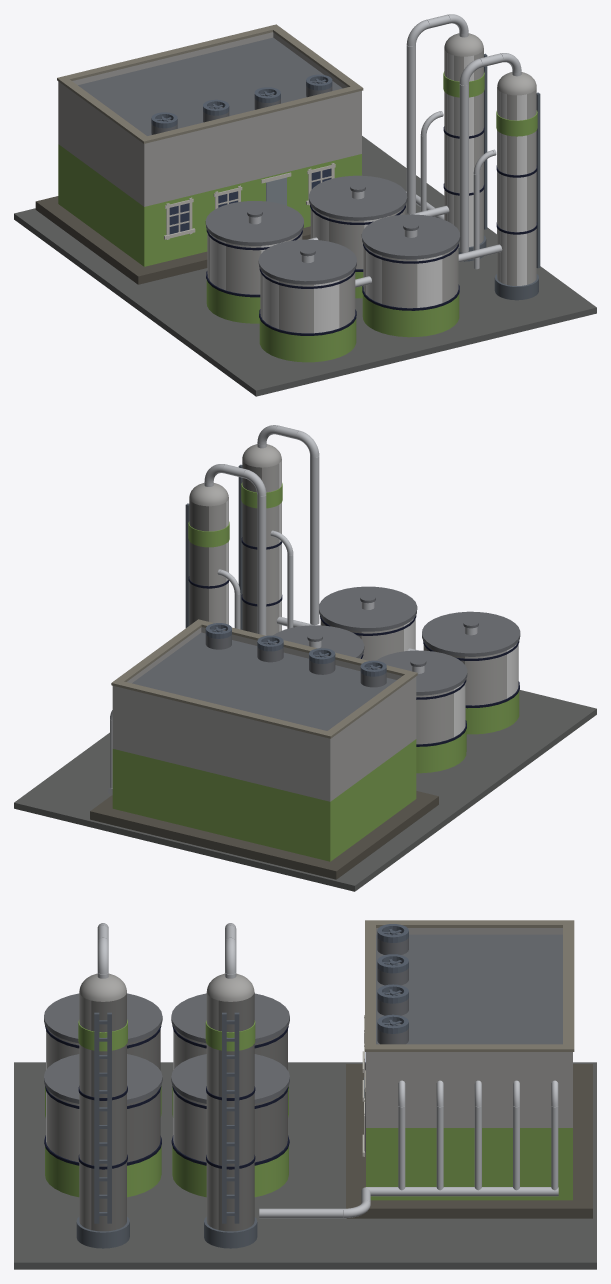
The model's file is chem_plant_lvl2.glb.
The picture shows the model from 3 angles, top to bottom: view 1: azimuth 30°, elevation 25°; view 2: azimuth 150°, elevation 25°; view 3: azimuth 270°, elevation 25°; orthographic projection. The views are drawn at different scales.
Parts seen in each view (by area): view 1: chem_plant; view 2: chem_plant; view 3: chem_plant.
Part boxes in pixels (x1=…): chem_plant: x1=14, y1=14, x2=596, y2=396; chem_plant: x1=14, y1=425, x2=596, y2=891; chem_plant: x1=14, y1=920, x2=596, y2=1269.
Bounding box in the file's own units: 0.7599 × 0.5262 × 0.9349.
